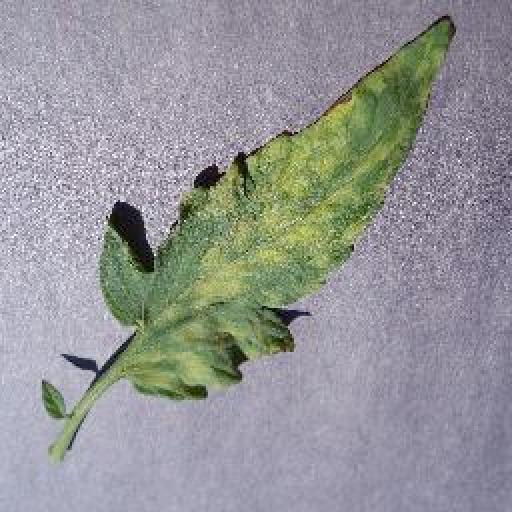disease_tomato: (102, 12, 452, 402)
